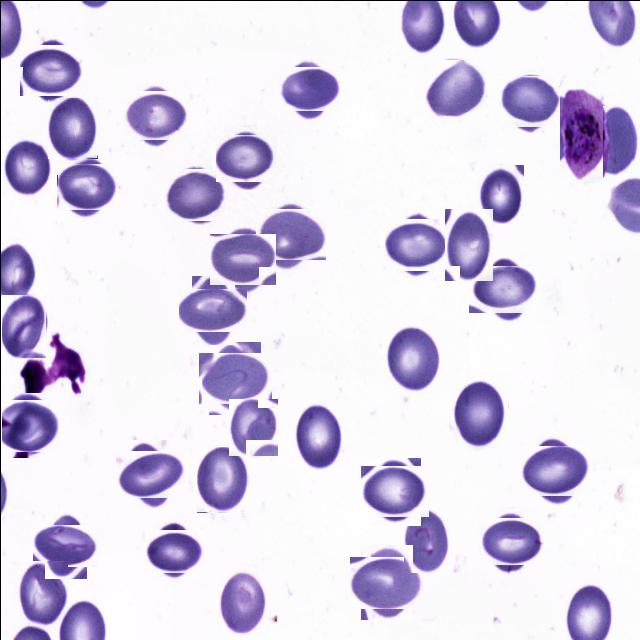red blood cell: (449, 379, 508, 452), (354, 550, 418, 614), (384, 325, 443, 392), (203, 346, 265, 408), (522, 440, 584, 500), (260, 203, 320, 264), (474, 259, 534, 319), (424, 58, 484, 118), (364, 461, 424, 521), (444, 208, 493, 281), (213, 229, 271, 289), (196, 446, 248, 512), (215, 568, 266, 634), (125, 86, 183, 144), (120, 444, 178, 502), (387, 215, 445, 272), (481, 512, 538, 570), (167, 165, 225, 222), (499, 72, 556, 130), (17, 560, 67, 626), (22, 41, 79, 98), (0, 396, 56, 454), (184, 282, 240, 338), (47, 97, 97, 158), (219, 130, 274, 185), (294, 404, 341, 468), (282, 61, 336, 116), (38, 518, 92, 572), (228, 398, 278, 456), (1, 294, 46, 358), (403, 509, 448, 572), (59, 160, 112, 213), (2, 138, 50, 195), (477, 164, 523, 223), (148, 524, 200, 576), (602, 105, 638, 177)
schizont: (559, 88, 610, 181)
